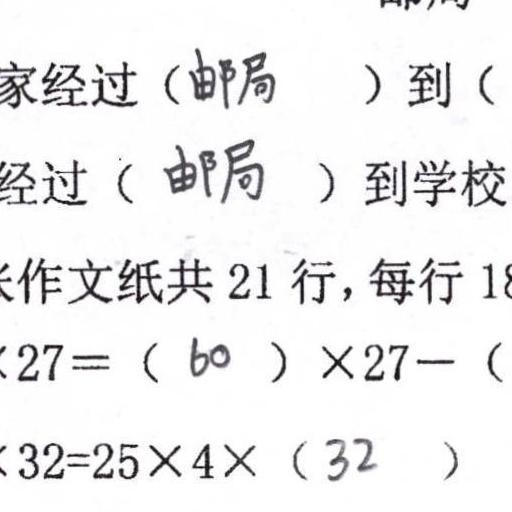ans: (162, 136, 265, 205), (189, 44, 278, 113), (318, 429, 376, 481), (183, 329, 229, 378)
